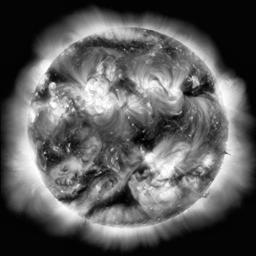solar flares: (76, 82, 108, 113), (146, 180, 173, 215), (149, 151, 185, 175), (106, 94, 133, 118), (47, 92, 70, 118), (134, 71, 157, 95), (162, 83, 185, 104)
sunspots: (89, 37, 144, 55), (94, 189, 140, 207), (131, 128, 161, 148), (154, 113, 179, 130), (78, 169, 105, 184), (40, 147, 65, 163), (63, 138, 86, 153), (183, 85, 214, 96), (52, 71, 69, 84), (113, 77, 131, 89), (167, 44, 180, 60), (132, 165, 144, 176), (83, 122, 95, 131)
